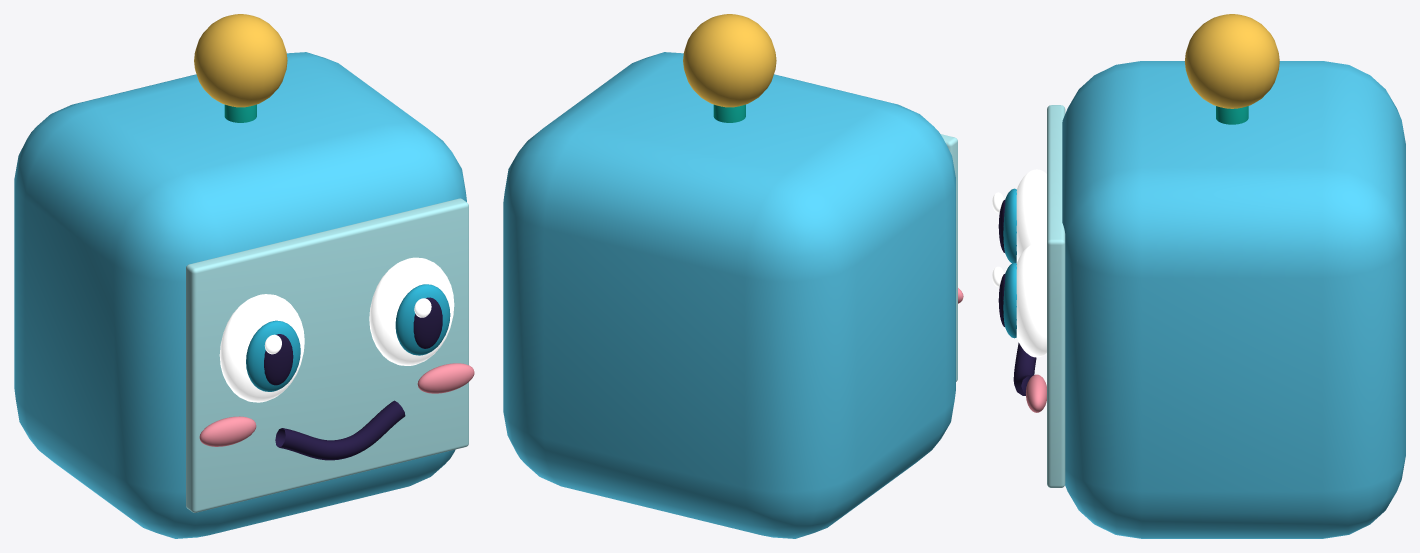
The model's file is cubo.glb.
The picture shows the model from 3 angles, left to right: view 1: azimuth 30°, elevation 25°; view 2: azimuth 150°, elevation 25°; view 3: azimuth 270°, elevation 25°; orthographic projection.
Parts seen in each view (by area): view 1: Cubo; view 2: Cubo; view 3: Cubo.
Boxes of the visible parts, bbox=[...] form: Cubo: bbox=[14, 14, 474, 538]; Cubo: bbox=[503, 14, 963, 538]; Cubo: bbox=[992, 14, 1405, 538].
Bounding box in the file's own units: 1.1 × 1.4 × 1.13.
